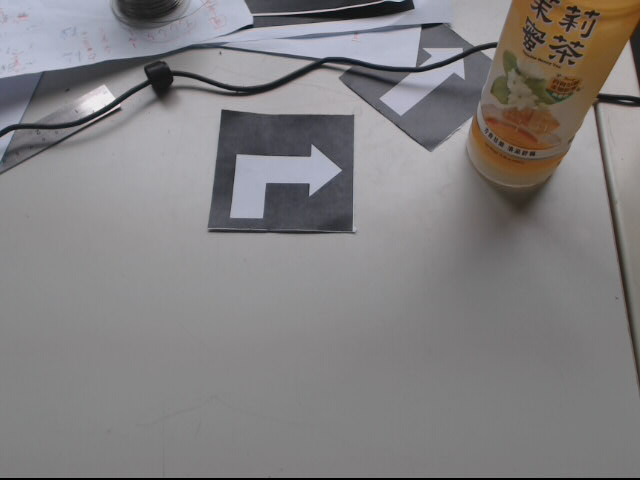right: (207, 108, 357, 232)
